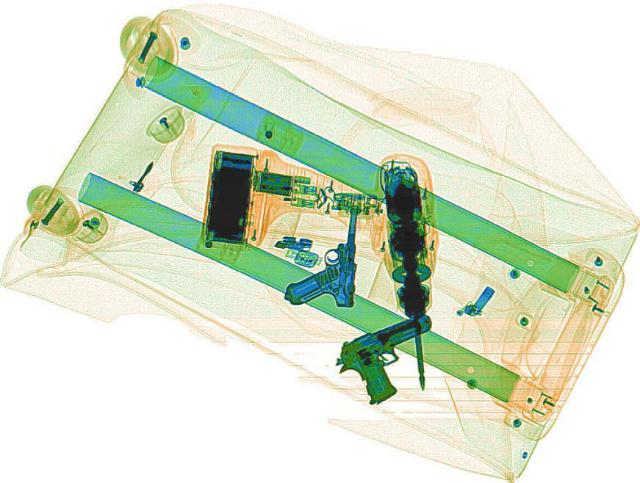Gun: (318, 308, 468, 406), (282, 201, 366, 308)
